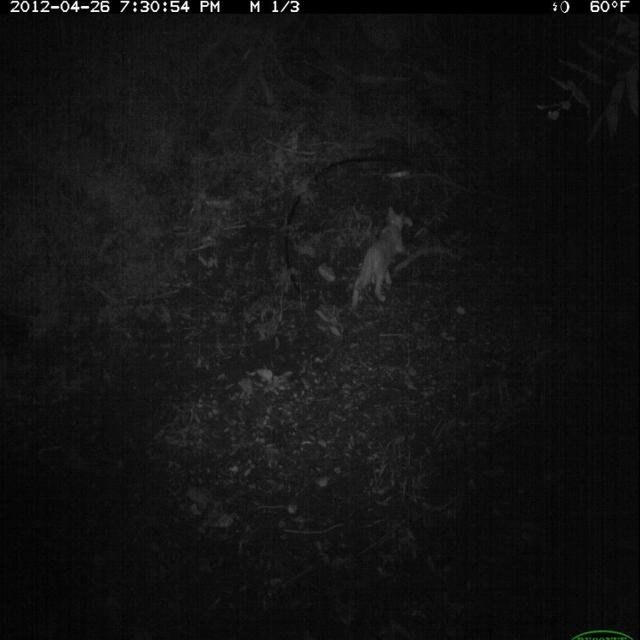cat: (347, 203, 418, 320)
